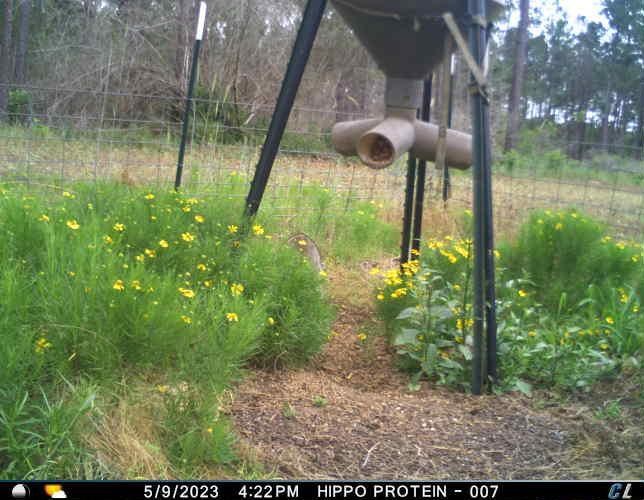Raccoon: (283, 230, 323, 271)
